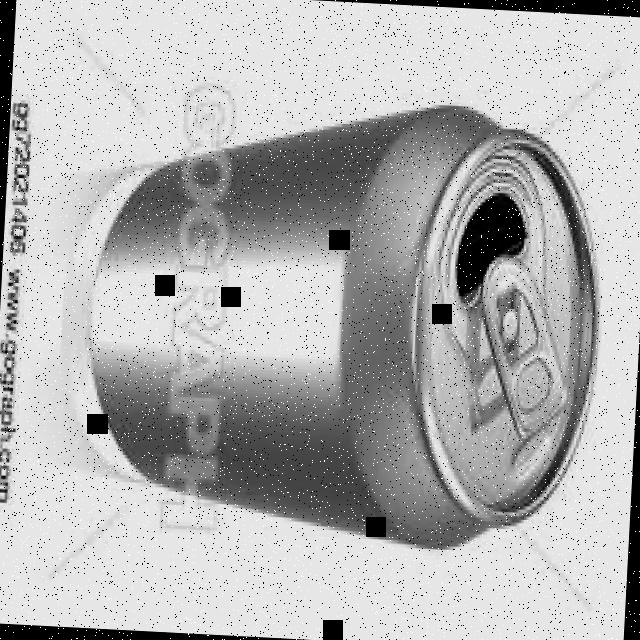can: (78, 82, 618, 563)
